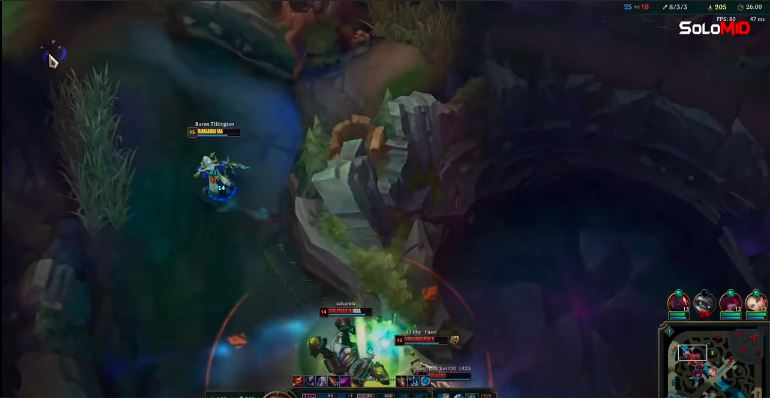bar: (392, 328, 453, 348), (317, 304, 375, 320), (184, 125, 245, 139), (416, 368, 475, 382)
